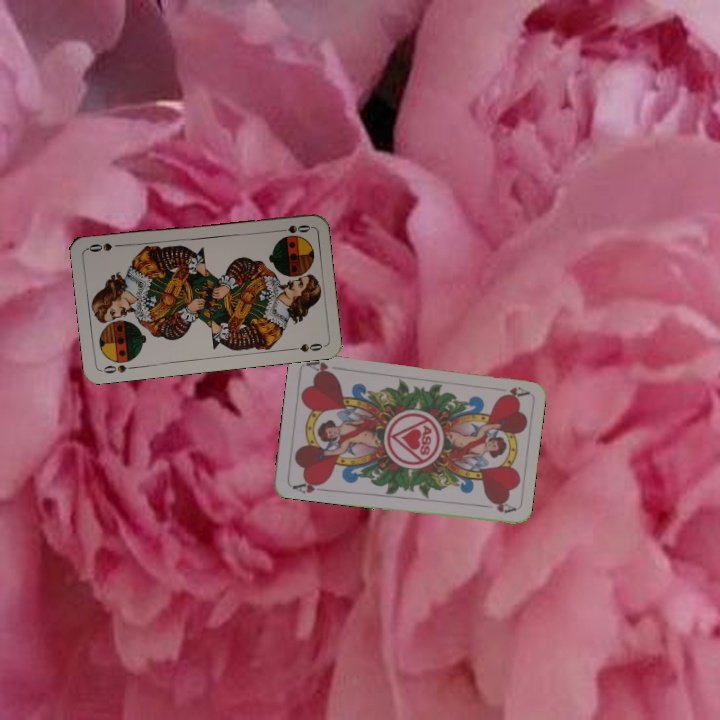HA: (288, 476, 328, 496), (490, 383, 530, 400)
SO: (98, 360, 138, 376), (272, 221, 313, 236)
